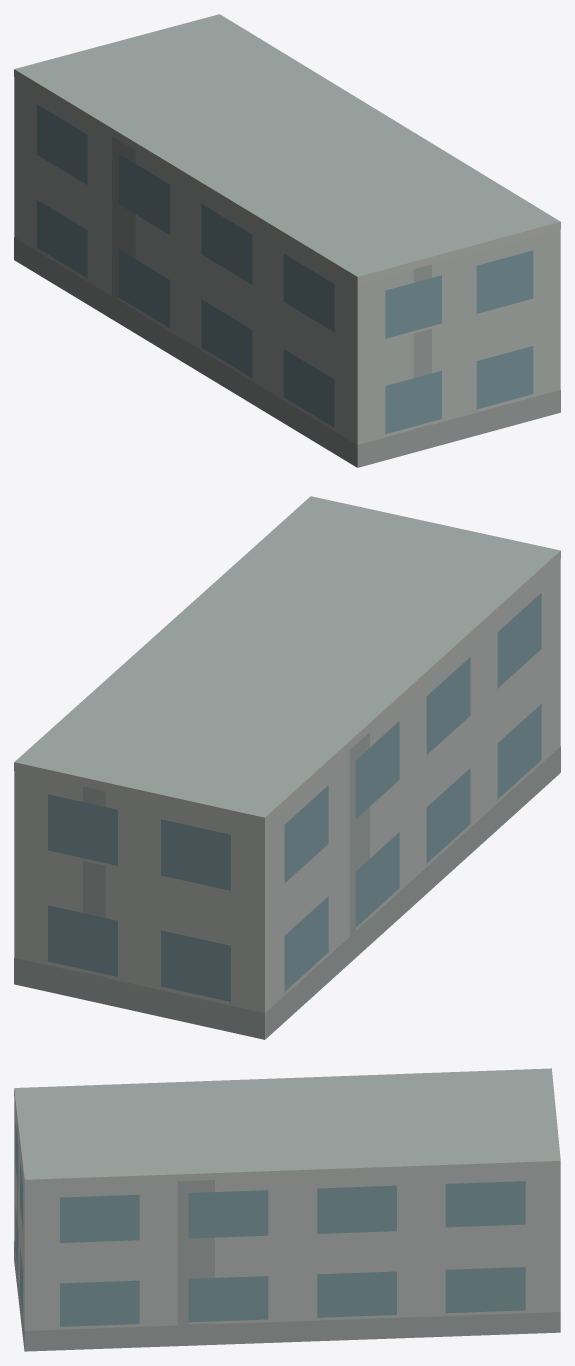
Rendered from survey-upis-32630127.glb.
3 renders of one model, top to bottom at view 1: azimuth 30°, elevation 25°; view 2: azimuth 150°, elevation 25°; view 3: azimuth 270°, elevation 25°, orthographic. The views are drawn at different scales.
Visible parts, largest first — view 1: survey-upis-32630127.tmp; view 2: survey-upis-32630127.tmp; view 3: survey-upis-32630127.tmp.
Boxes of the visible parts, x1=… form: survey-upis-32630127.tmp: x1=14, y1=14, x2=560, y2=467; survey-upis-32630127.tmp: x1=14, y1=496, x2=560, y2=1039; survey-upis-32630127.tmp: x1=14, y1=1068, x2=560, y2=1351.
Size of the model in its own units: 8.5 by 6.1 by 17.61.
